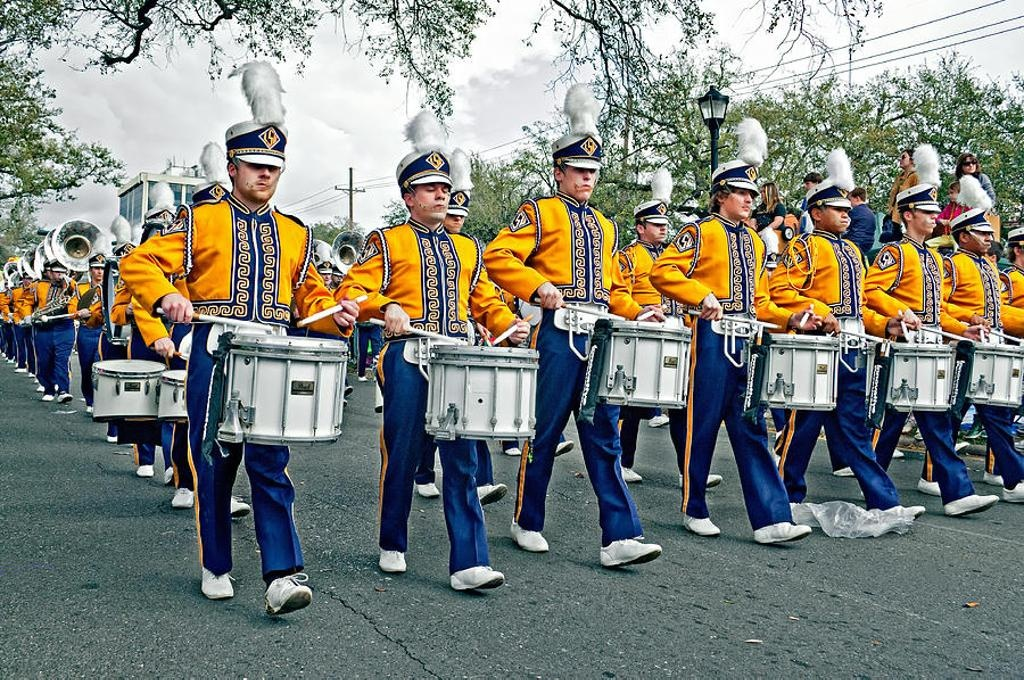human_face: (237, 156, 279, 198), (562, 156, 596, 198), (413, 184, 447, 218), (724, 184, 752, 218), (823, 203, 847, 231), (912, 207, 936, 233), (968, 226, 990, 251), (644, 216, 666, 240), (445, 210, 463, 229), (962, 156, 976, 172), (1012, 244, 1024, 262), (90, 266, 104, 279), (898, 151, 908, 167), (948, 187, 958, 201), (52, 270, 62, 282), (320, 272, 330, 282), (332, 273, 342, 283), (760, 187, 768, 199), (804, 179, 812, 190), (48, 269, 56, 279), (24, 276, 32, 286), (850, 192, 856, 204)
